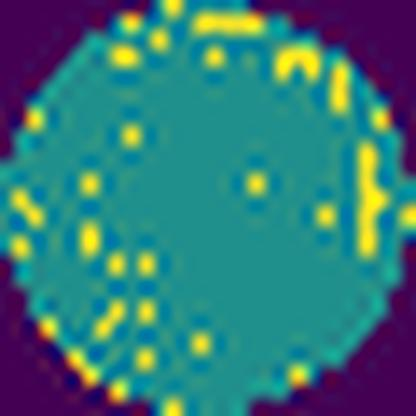Scratch: (351, 136, 396, 260), (187, 12, 265, 40)
